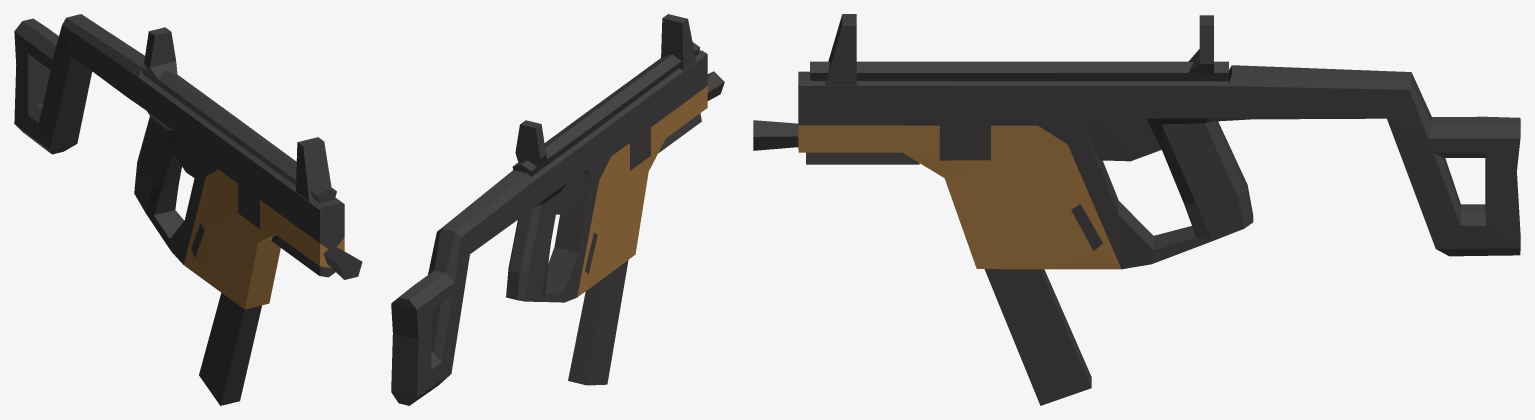
Rendered from weapons-smg-vector.glb.
3 views of the same model, side by side, from view 1: azimuth 30°, elevation 25°; view 2: azimuth 150°, elevation 25°; view 3: azimuth 270°, elevation 25° (orthographic). The views are drawn at different scales.
Visible parts, largest first — view 1: SM_SMG_Vector; view 2: SM_SMG_Vector; view 3: SM_SMG_Vector.
Part boxes in pixels (left/top/right/bottom): SM_SMG_Vector: left=14, top=14, right=362, bottom=405; SM_SMG_Vector: left=391, top=14, right=724, bottom=405; SM_SMG_Vector: left=753, top=14, right=1520, bottom=405.
Size of the model in its own units: 0.0324 by 0.3518 by 0.6432.
